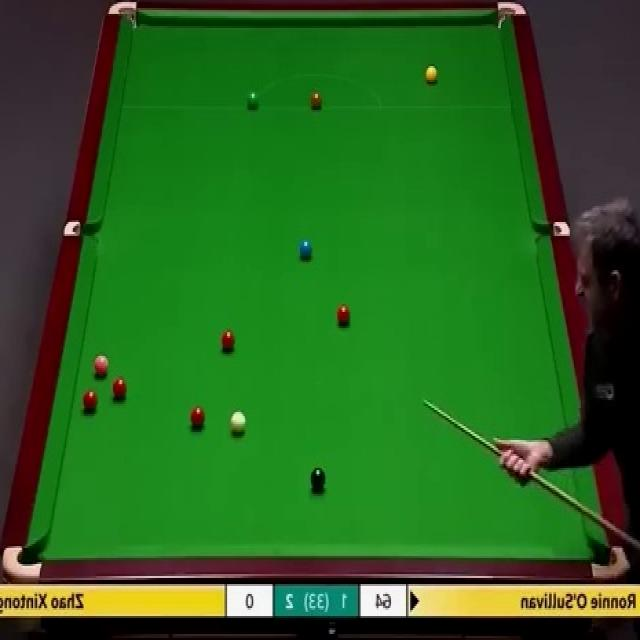black-ball: (310, 465, 326, 490)
blue-ball: (299, 239, 312, 261)
brown-ball: (310, 93, 322, 110)
green-ball: (247, 90, 258, 110)
pink-ball: (92, 353, 109, 378)
red-ball: (189, 405, 207, 430), (220, 327, 235, 352), (112, 378, 127, 399), (337, 304, 350, 327), (83, 391, 96, 413)
white-ball: (229, 410, 247, 437)
yellow-ball: (424, 66, 438, 86)
